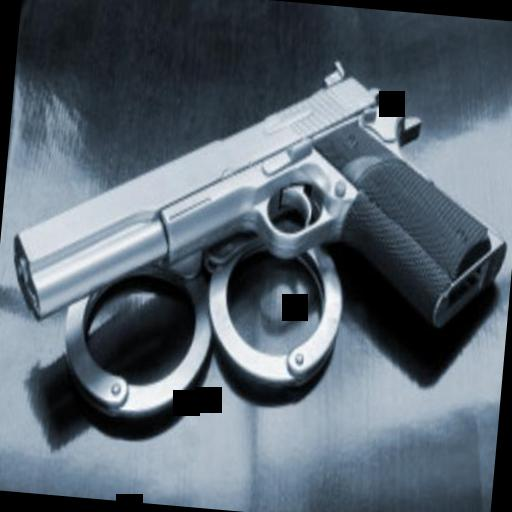Handgun: (15, 40, 503, 390)
